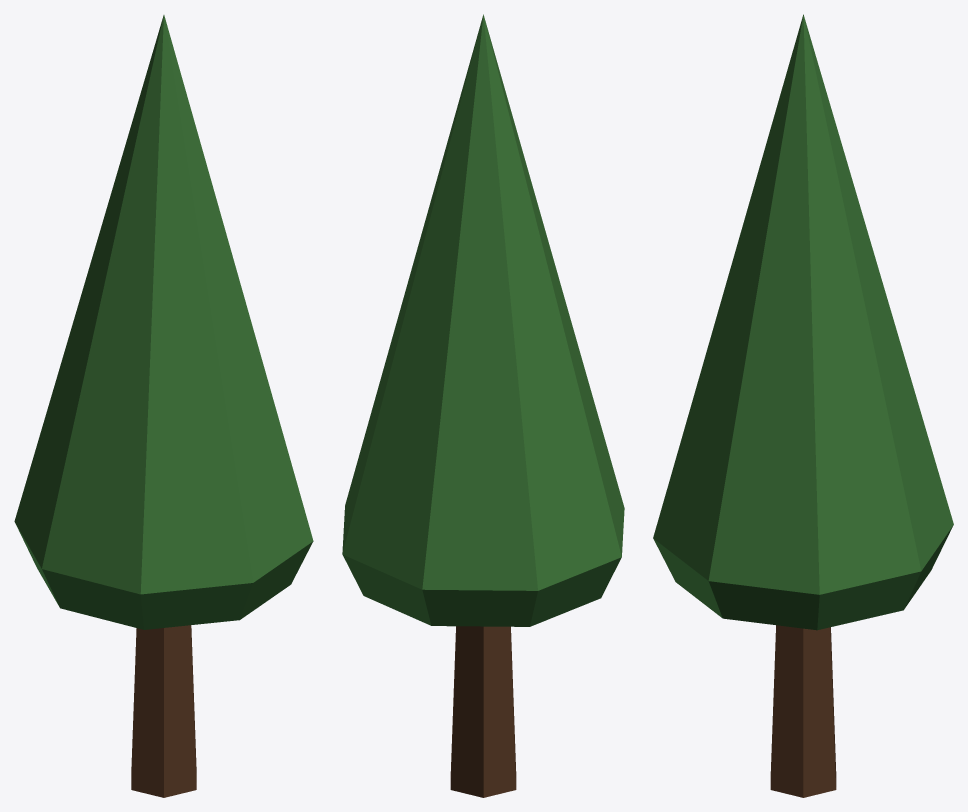
File: tree_pineSmallC.glb
The picture shows the model from 3 angles, left to right: view 1: azimuth 30°, elevation 25°; view 2: azimuth 150°, elevation 25°; view 3: azimuth 270°, elevation 25°; orthographic projection.
Parts seen in each view (by area): view 1: tree_pineSmallC; view 2: tree_pineSmallC; view 3: tree_pineSmallC.
Part boxes in pixels (x1,y1,x2,y2): tree_pineSmallC: (14,15,313,797); tree_pineSmallC: (342,14,624,797); tree_pineSmallC: (653,14,953,797).
Size of the model in its own units: 0.3977 by 1.12 by 0.3977.
1 material, 1 textured.
